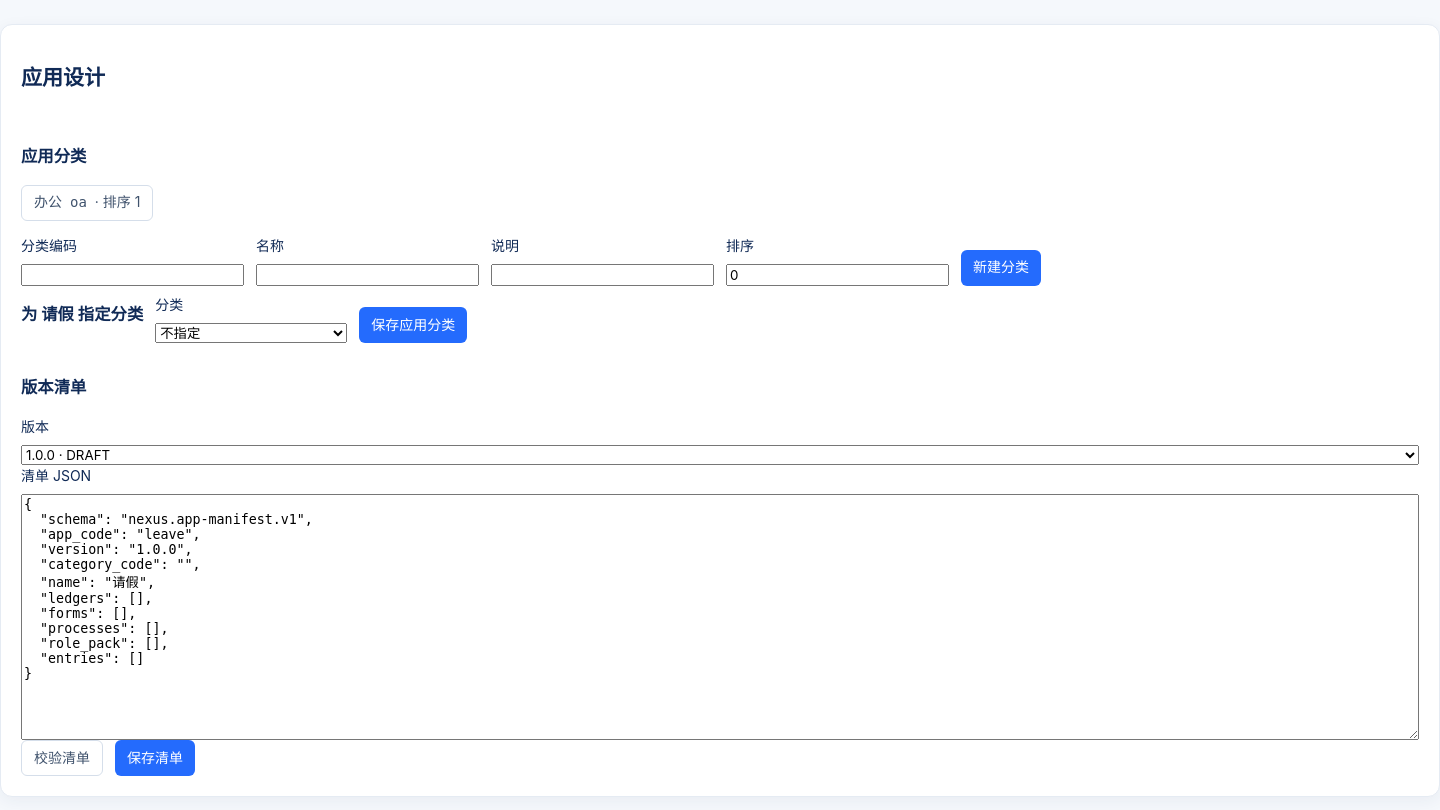
Test: PLB4 app design › lists every validation problem from one check
Click the button with test id "manifest-validate" at (62, 758), box [21, 740, 103, 776]
(page scrolled)
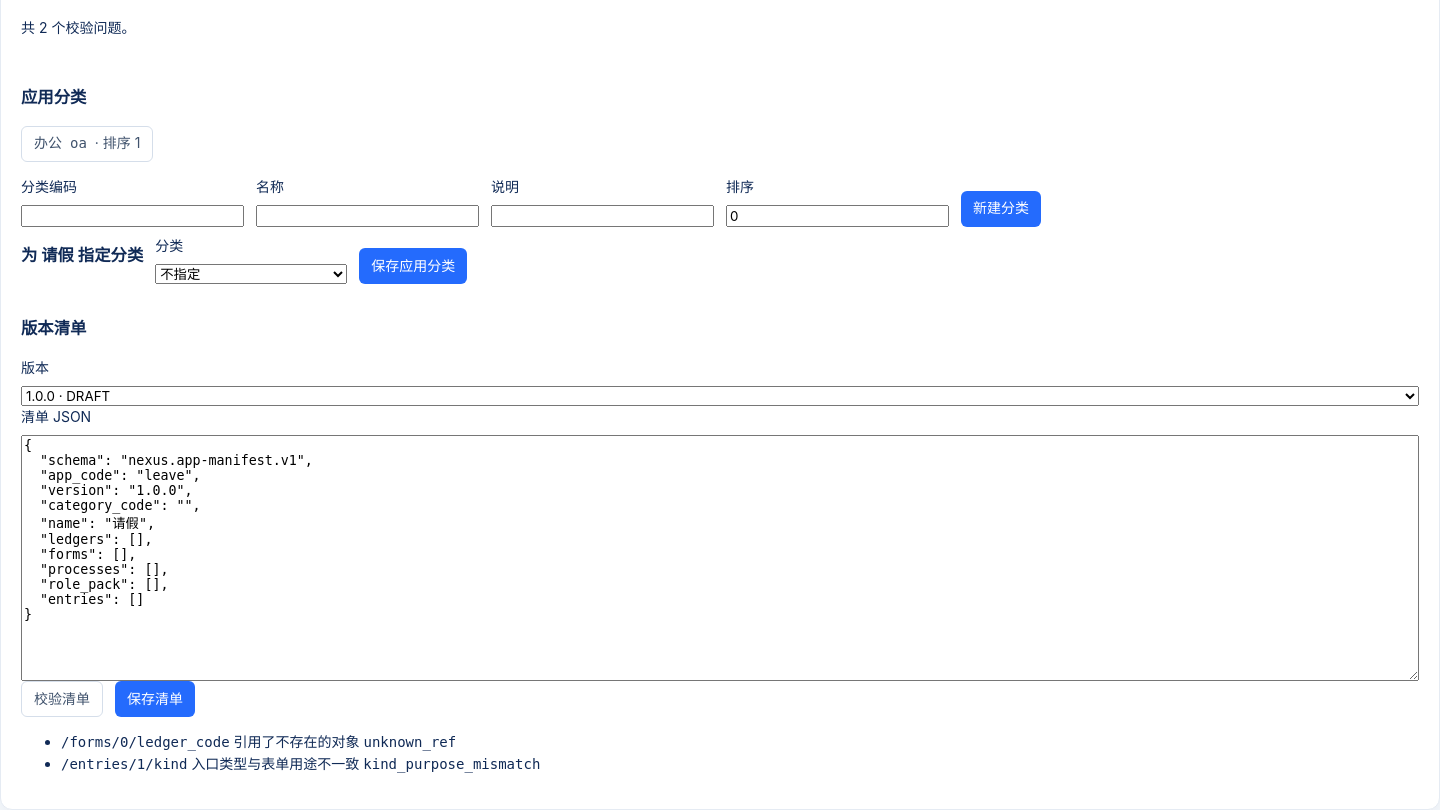
Check: the number of list items with test id "manifest-problem" is 2, box [61, 733, 456, 750]; [61, 755, 540, 772]
Check: the list item with test id "manifest-problem" shows "/forms/0/ledger_code", box [61, 734, 230, 750]
Check: the list item with test id "manifest-problem" shows "unknown_ref", box [364, 734, 456, 750]
